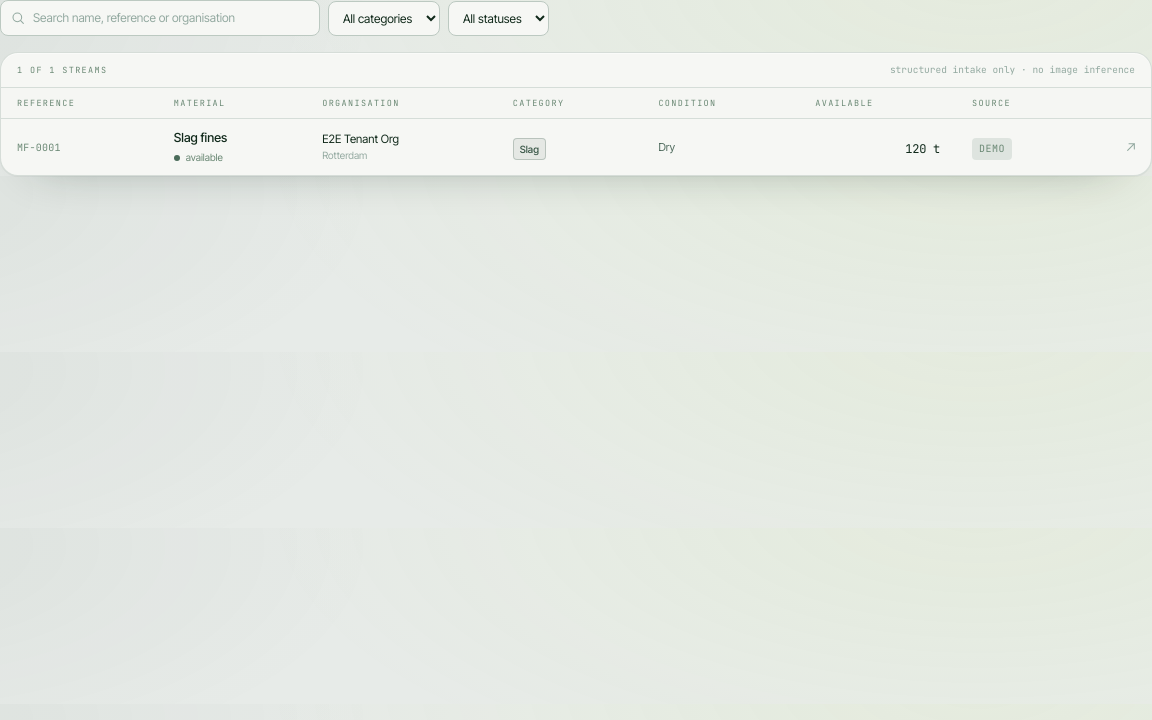
material register keyboard operability › keeps pointer activation on the row itself
This screenshot has width=1152, height=720.
What coordinates should you click on to do the following:
click the text "E2E Tenant Org"
I would click on:
 (402, 147)
Its box is [306,119,497,175].
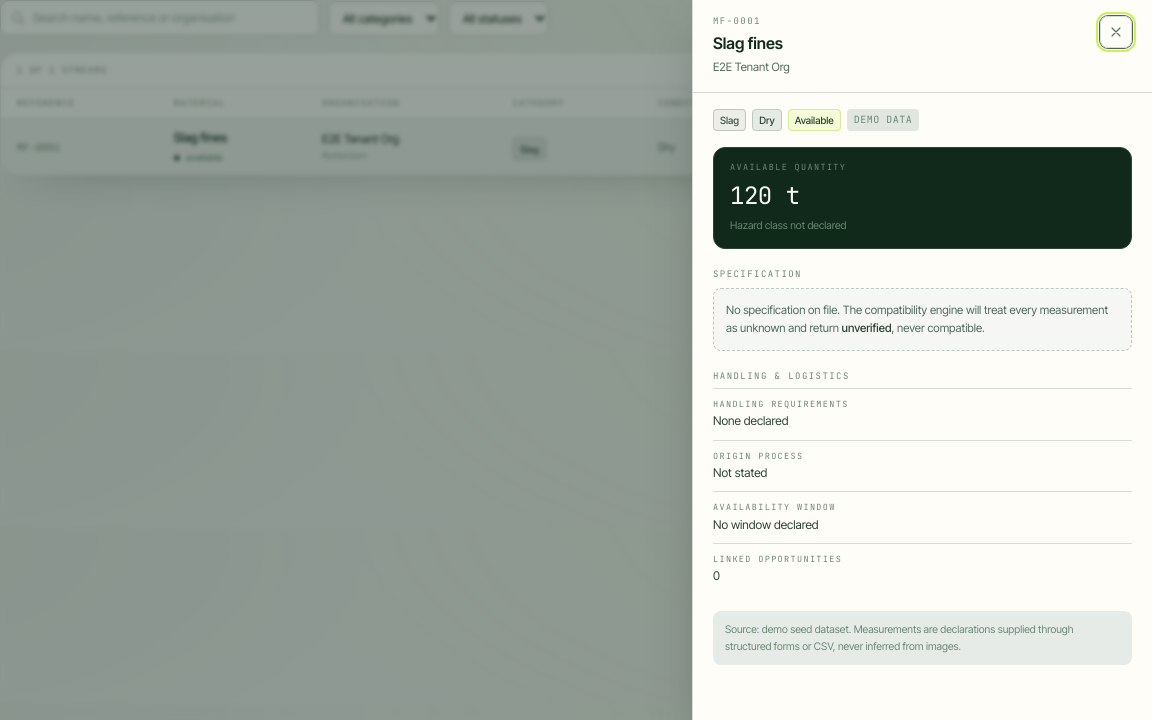
Expected: the dialog named "material detail" is shown, [692,0,1151,719]
